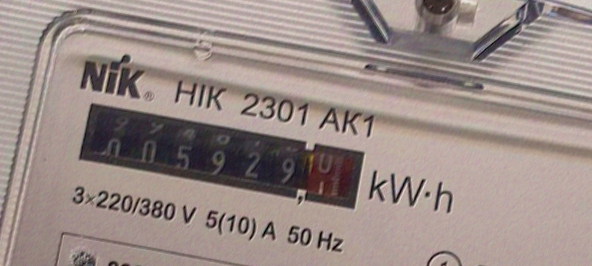0: (135, 137, 158, 167), (99, 133, 124, 159), (312, 151, 334, 177)
2: (238, 148, 262, 184)
5: (170, 142, 192, 173)
9: (202, 146, 228, 179), (274, 155, 297, 189), (108, 114, 129, 135)
screen: (68, 97, 372, 221)
